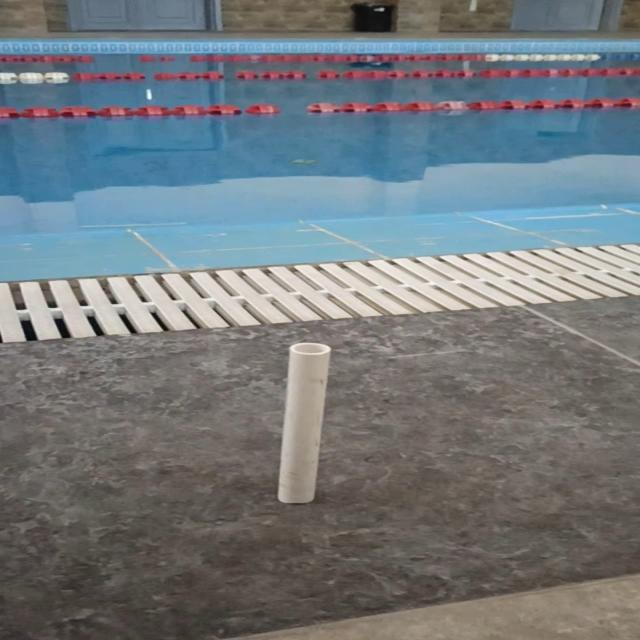Cube: (274, 341, 332, 504)
